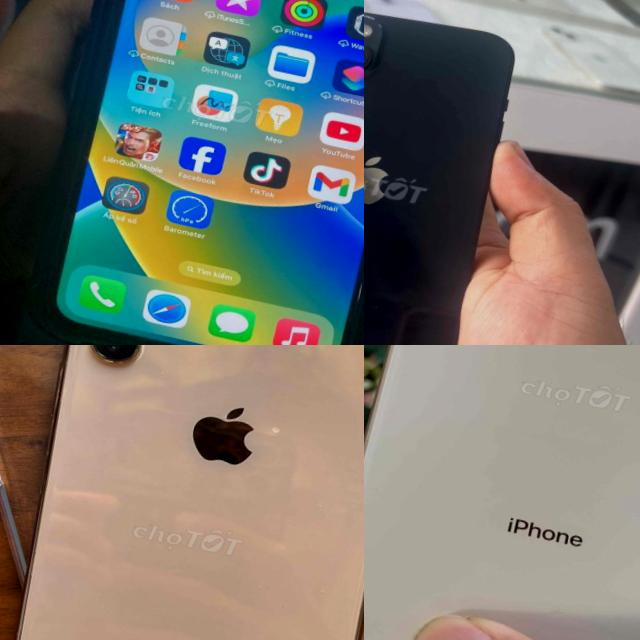scratch: (131, 345, 157, 362)
